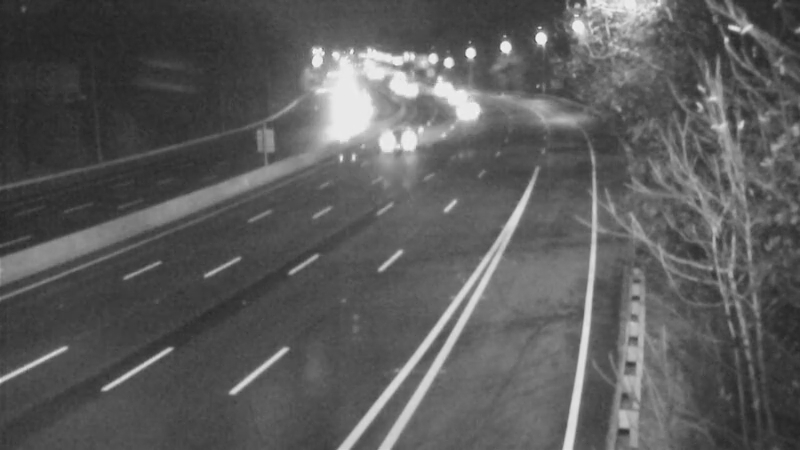vehicle: (387, 65, 437, 115), (412, 66, 462, 116), (433, 76, 483, 126), (440, 90, 490, 140), (375, 118, 425, 168), (316, 99, 366, 149)
